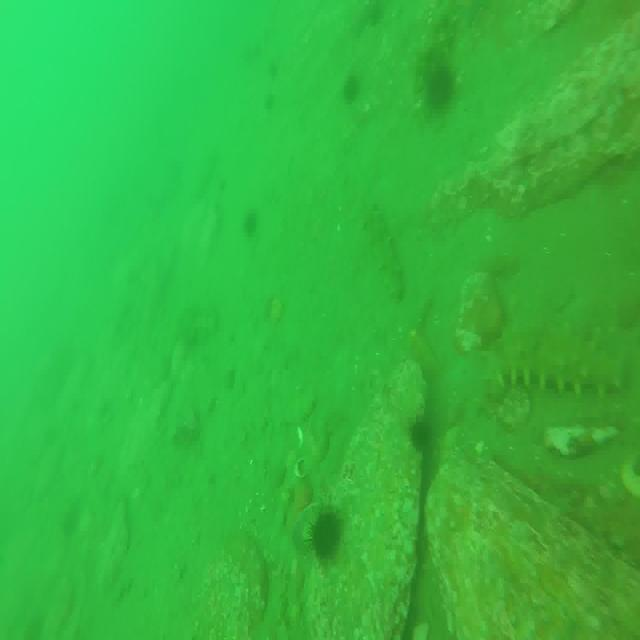echinus: (309, 508, 342, 561), (426, 67, 456, 111), (411, 414, 433, 456), (246, 202, 263, 240), (344, 76, 365, 105)
holothurian: (497, 326, 624, 396), (362, 203, 403, 302)
